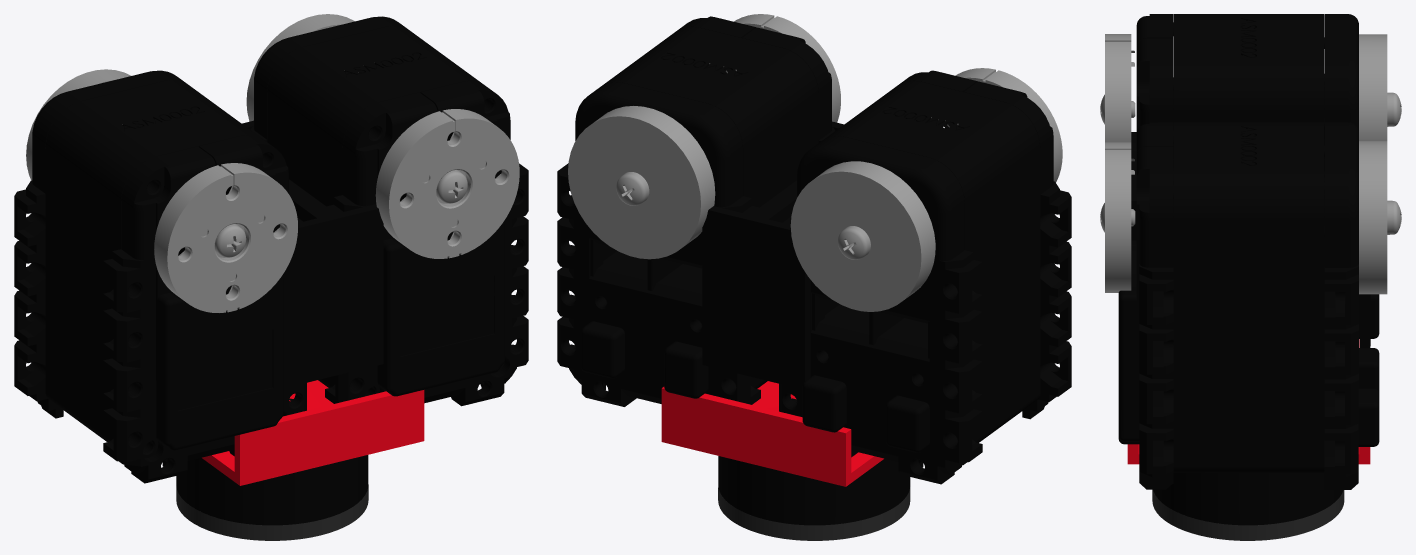
3 renders of one model, left to right at view 1: azimuth 30°, elevation 25°; view 2: azimuth 150°, elevation 25°; view 3: azimuth 270°, elevation 25°, orthographic.
Parts seen in each view (by area): view 1: link_6; view 2: link_6; view 3: link_6.
Part boxes in pixels (x1=…): link_6: x1=14, y1=14, x2=528, y2=540; link_6: x1=557, y1=14, x2=1071, y2=540; link_6: x1=1100, y1=14, x2=1401, y2=540.
Size of the model in its own units: 0.0693 by 0.0439 by 0.0657.
